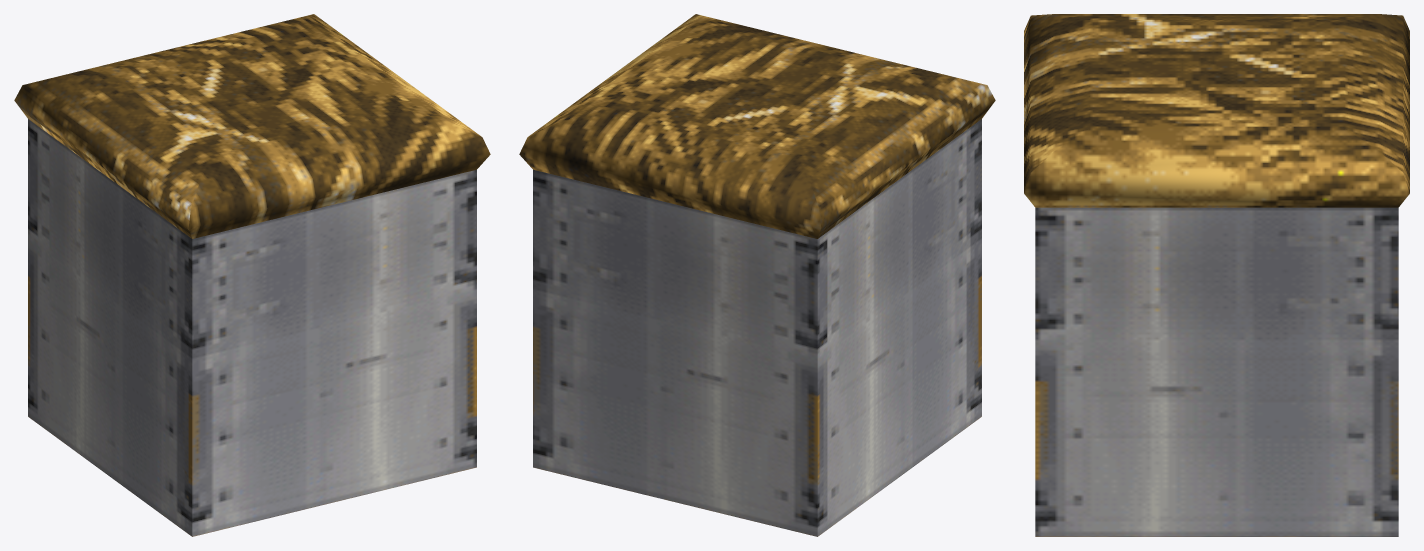
File: SpaceshipPart04.fbx
3 views of the same model, side by side, from view 1: azimuth 30°, elevation 25°; view 2: azimuth 150°, elevation 25°; view 3: azimuth 270°, elevation 25° (orthographic). The views are drawn at different scales.
Parts seen in each view (by area): view 1: SpaceshipPart04; view 2: SpaceshipPart04; view 3: SpaceshipPart04.
Part boxes in pixels (box(x1,y1,x2,y2)): SpaceshipPart04: box(14, 14, 490, 536); SpaceshipPart04: box(519, 14, 995, 536); SpaceshipPart04: box(1024, 14, 1409, 536).
Bounding box in the file's own units: 106 × 117 × 106.
